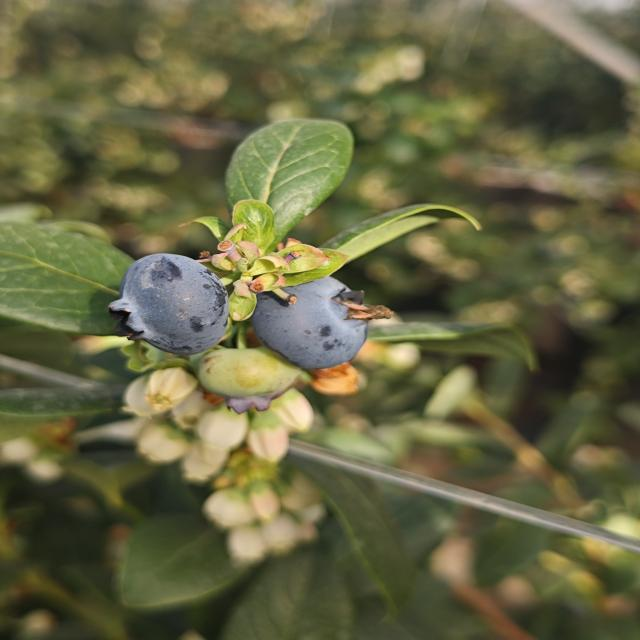ripe: (105, 251, 233, 358), (247, 273, 372, 372)
